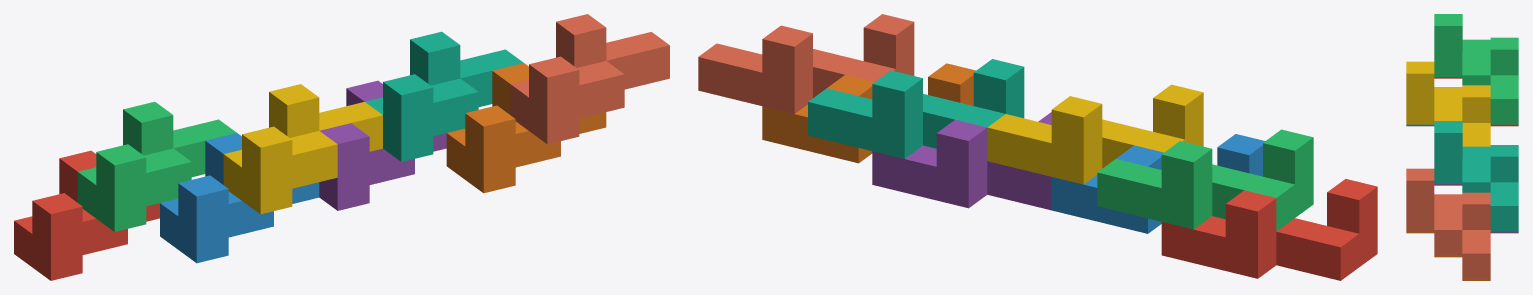
The model's file is tiling.obj.
The picture shows the model from 3 angles, left to right: view 1: azimuth 30°, elevation 25°; view 2: azimuth 150°, elevation 25°; view 3: azimuth 270°, elevation 25°; orthographic projection. The views are drawn at different scales.
Parts seen in each view (by area): view 1: copy_1_domain_8, copy_1_domain_4, copy_1_domain_3, copy_1_domain_7, copy_1_domain_6, copy_1_domain_2, copy_1_domain_1, copy_1_domain_5; view 2: copy_1_domain_1, copy_1_domain_3, copy_1_domain_7, copy_1_domain_8, copy_1_domain_4, copy_1_domain_5, copy_1_domain_2, copy_1_domain_6; view 3: copy_1_domain_8, copy_1_domain_3, copy_1_domain_7, copy_1_domain_4, copy_1_domain_6, copy_1_domain_1, copy_1_domain_5, copy_1_domain_2.
Part boxes in pixels (<box>): copy_1_domain_8: <box>510,14,669,144</box>; copy_1_domain_4: <box>223,84,382,214</box>; copy_1_domain_3: <box>77,101,236,231</box>; copy_1_domain_7: <box>365,31,523,161</box>; copy_1_domain_6: <box>446,63,606,193</box>; copy_1_domain_2: <box>160,133,319,263</box>; copy_1_domain_1: <box>14,150,159,280</box>; copy_1_domain_5: <box>319,80,446,210</box>; copy_1_domain_1: <box>1161,179,1377,280</box>; copy_1_domain_3: <box>1097,129,1313,231</box>; copy_1_domain_7: <box>808,59,1024,158</box>; copy_1_domain_8: <box>698,14,914,113</box>; copy_1_domain_4: <box>987,84,1203,184</box>; copy_1_domain_5: <box>872,112,1051,210</box>; copy_1_domain_2: <box>1051,134,1264,233</box>; copy_1_domain_6: <box>762,63,975,163</box>; copy_1_domain_8: <box>1406,168,1490,279</box>; copy_1_domain_3: <box>1434,14,1518,124</box>; copy_1_domain_7: <box>1434,121,1518,231</box>; copy_1_domain_4: <box>1406,61,1490,146</box>; copy_1_domain_6: <box>1406,231,1490,280</box>; copy_1_domain_1: <box>1434,77,1518,126</box>; copy_1_domain_5: <box>1434,184,1518,233</box>; copy_1_domain_2: <box>1406,124,1434,126</box>.
Size of the model in its own units: 20 by 3 by 4.
